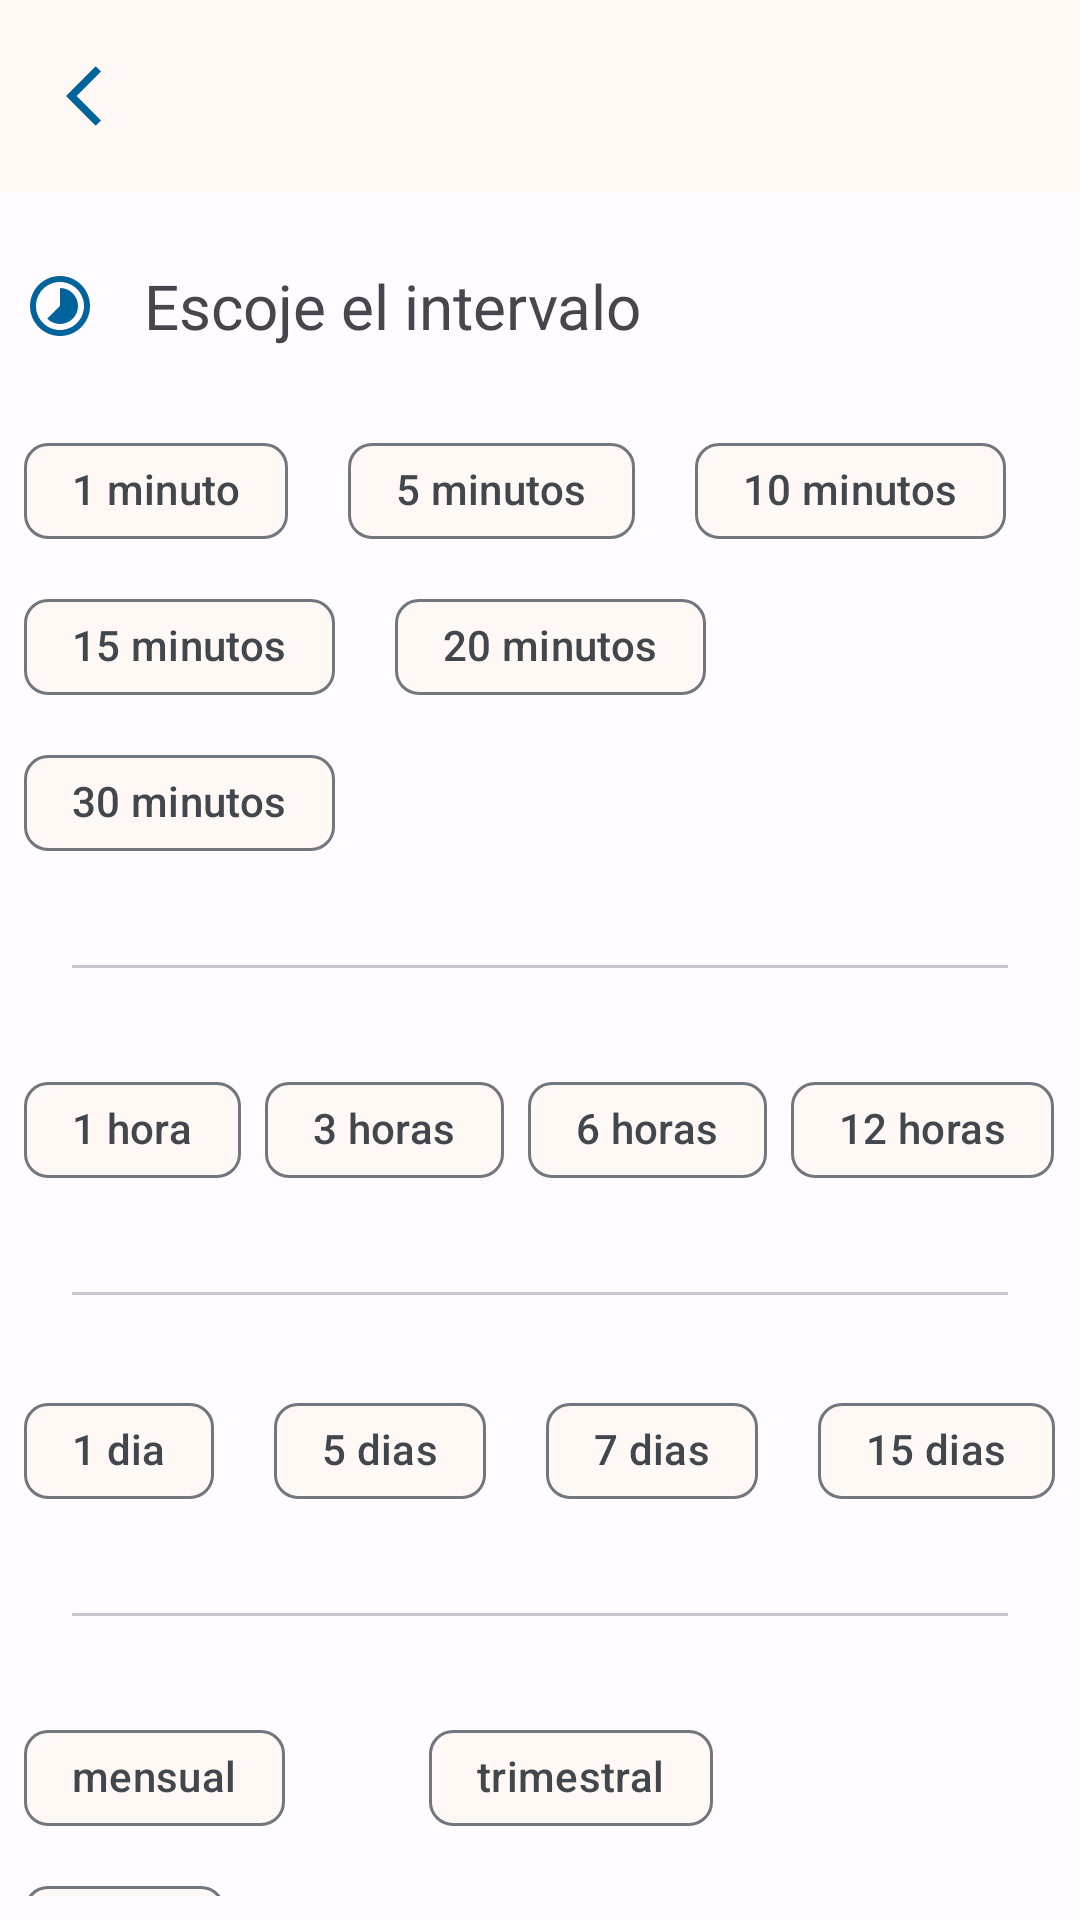

Where to tap for icons on this 1080 x 1920 app screen, as point (x, y):
timelapse: point (60, 306)
